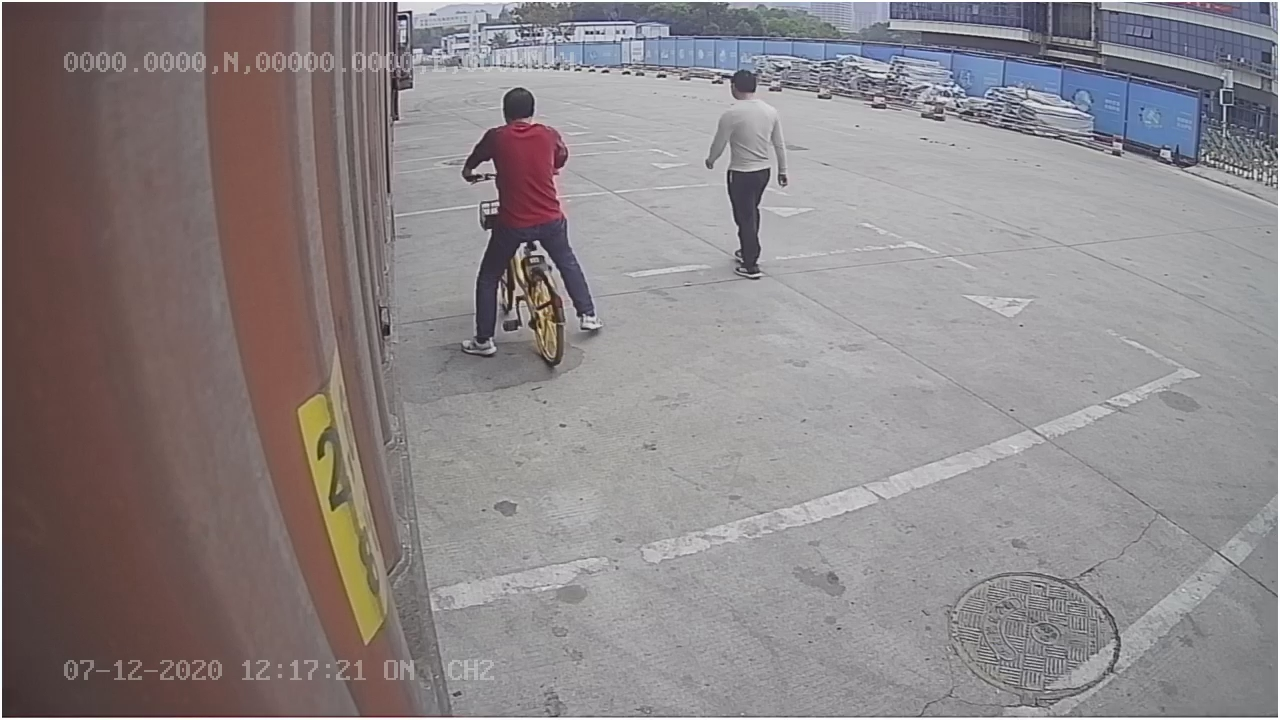person: (698, 60, 792, 277)
